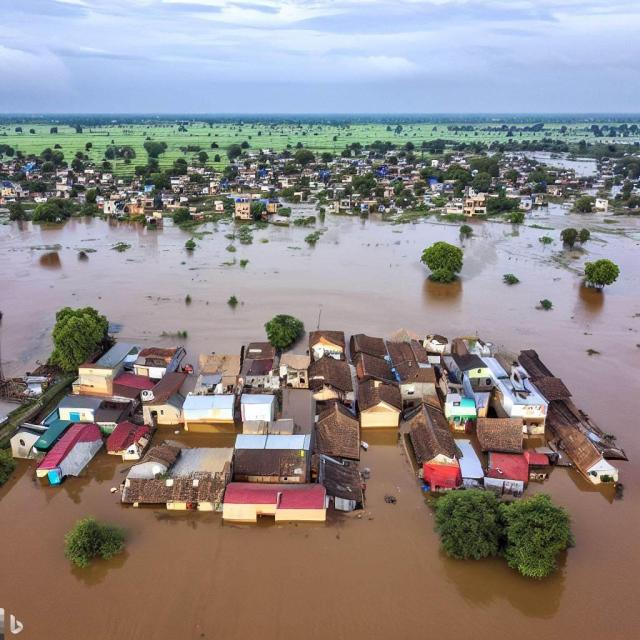flood: (0, 210, 640, 640), (526, 151, 598, 177)
house: (222, 478, 327, 526), (406, 403, 462, 488), (475, 419, 535, 494), (35, 421, 102, 484), (234, 433, 314, 480), (442, 355, 498, 419), (498, 368, 546, 440), (568, 428, 620, 484), (317, 402, 363, 460), (309, 352, 357, 406), (358, 378, 406, 430), (119, 457, 170, 505), (473, 418, 531, 460), (182, 392, 236, 429), (102, 420, 152, 455), (136, 344, 186, 376), (197, 353, 240, 388), (78, 362, 119, 398), (240, 343, 276, 381), (279, 347, 312, 386), (308, 330, 344, 364), (388, 337, 430, 366), (57, 395, 101, 422), (116, 369, 152, 400), (354, 352, 395, 379), (242, 394, 276, 426), (350, 334, 389, 359), (462, 195, 487, 220), (234, 202, 258, 222)
